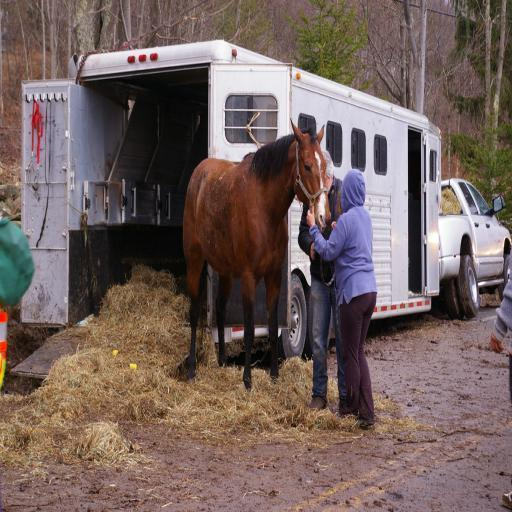horse: (182, 119, 333, 392)
